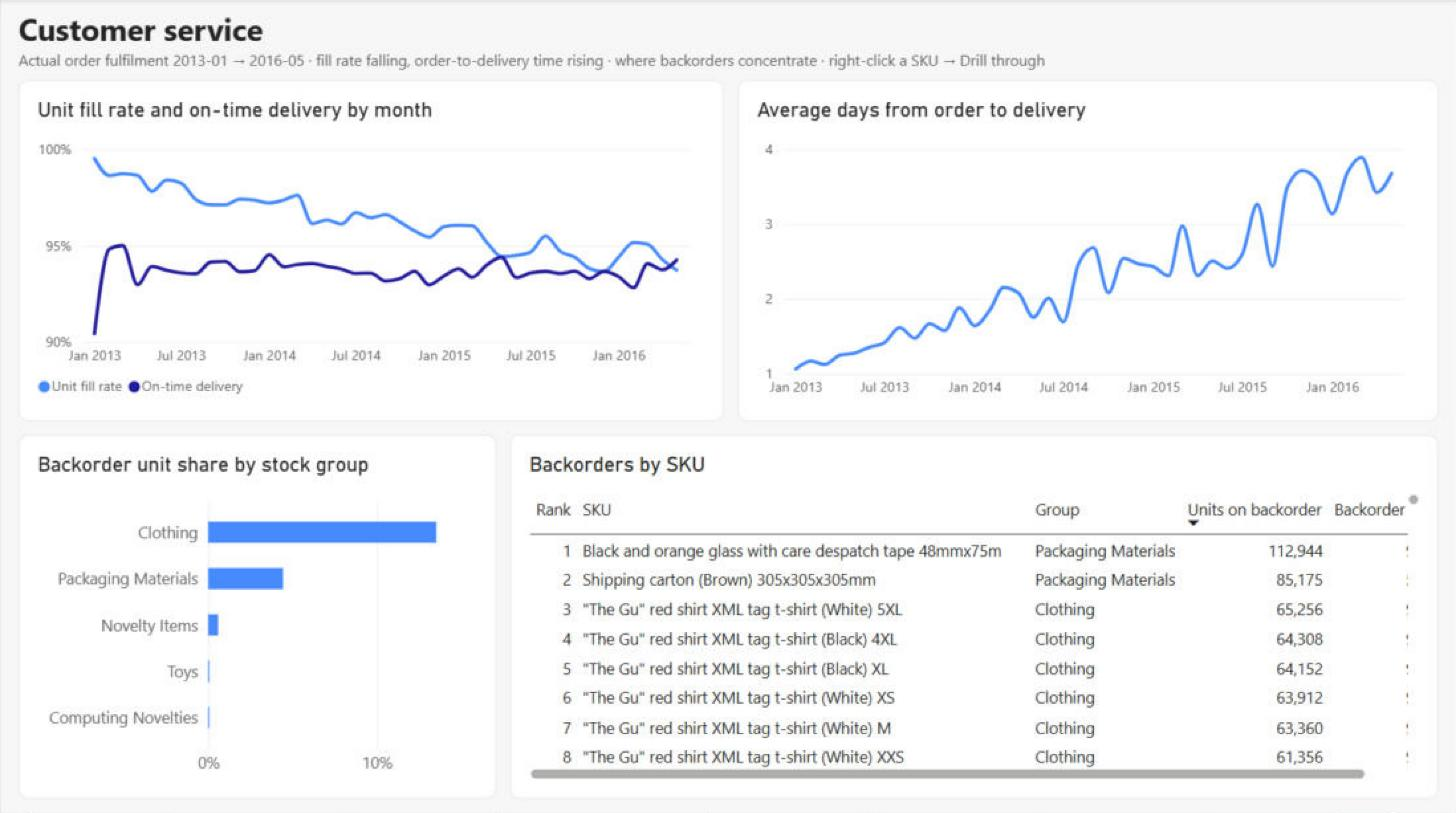

The dashboard page shown, as its layout file describes it:
{"tool":"powerbi","page":{"name":"Customer service","canvas":[1280,720],"ordinal":4},"visuals":[{"type":"textbox","box":[16,8,1248,56],"z":1000},{"type":"lineChart","title":"Unit fill rate and on-time delivery by month","fields":{"Category":["Service Monthly.month_start"],"Y":["Sum(Service Monthly.unit_fill_rate)","Sum(Service Monthly.on_time_delivery_rate)"]},"box":[16,72,620,300],"z":2000},{"type":"lineChart","title":"Average days from order to delivery","fields":{"Category":["Service Monthly.month_start"],"Y":["Sum(Service Monthly.avg_days_order_to_delivery)"]},"box":[648,72,616,300],"z":3000},{"type":"clusteredBarChart","title":"Backorder unit share by stock group","fields":{"Category":["Stock Item.primary_stock_group"],"Y":["Order Line.Backorder Unit Share"]},"box":[16,384,420,320],"z":4000},{"type":"tableEx","title":"Backorders by SKU","fields":{"Values":["Min(Backorder by SKU.backorder_rank)","Stock Item.stock_item_name","Stock Item.primary_stock_group","Sum(Backorder by SKU.units_on_backorder)","Sum(Backorder by SKU.backorder_unit_share)"]},"box":[448,384,816,320],"z":5000}]}

Visuals, with their boxes in screenshot pixels (x1, y1, x2, y2), scaled from the page's 1280x720 canvas onto the 1456x813 screenshot:
textbox: 18, 9, 1438, 72
"Unit fill rate and on-time delivery by month" lineChart: 18, 81, 723, 420
"Average days from order to delivery" lineChart: 737, 81, 1438, 420
"Backorder unit share by stock group" clusteredBarChart: 18, 434, 496, 795
"Backorders by SKU" tableEx: 510, 434, 1438, 795
